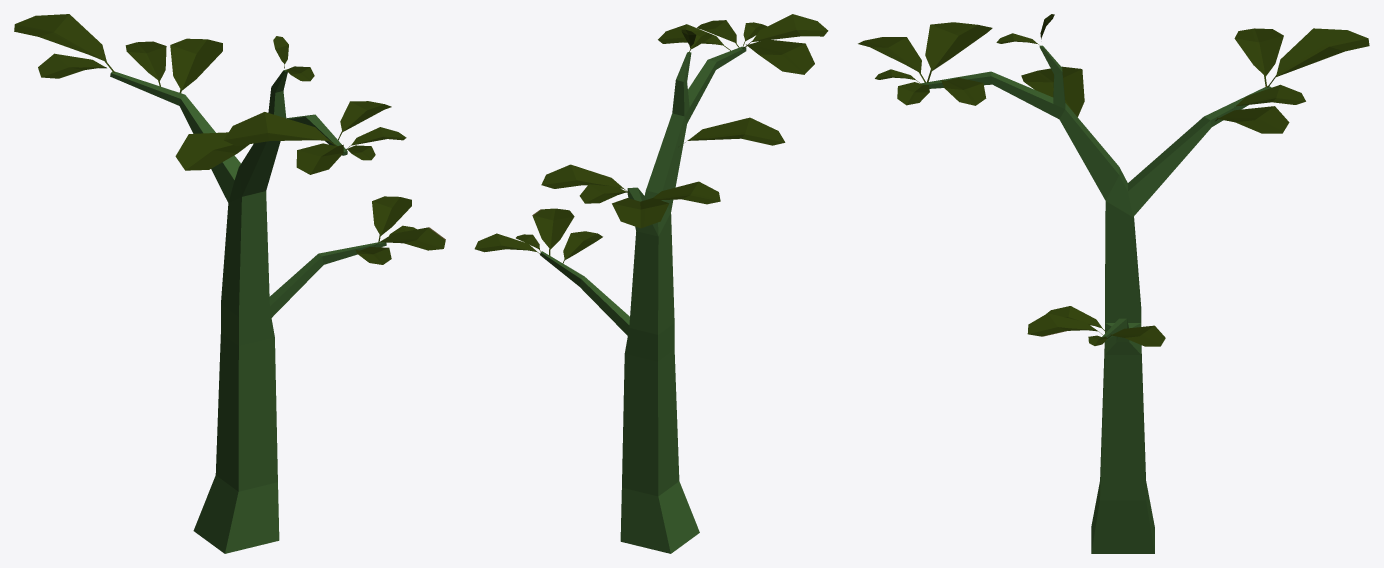
File: TEX_tomato_base.fbx
3 views of the same model, side by side, from view 1: azimuth 30°, elevation 25°; view 2: azimuth 150°, elevation 25°; view 3: azimuth 270°, elevation 25° (orthographic). The views are drawn at different scales.
Parts seen in each view (by area): view 1: F_Tomato_base; view 2: F_Tomato_base; view 3: F_Tomato_base.
Boxes of the visible parts, left/top/right/bottom form: F_Tomato_base: left=14, top=14, right=445, bottom=553; F_Tomato_base: left=474, top=14, right=828, bottom=553; F_Tomato_base: left=858, top=14, right=1369, bottom=553.
Size of the model in its own units: 45.89 by 72.41 by 63.52.
1 material, 1 textured.
